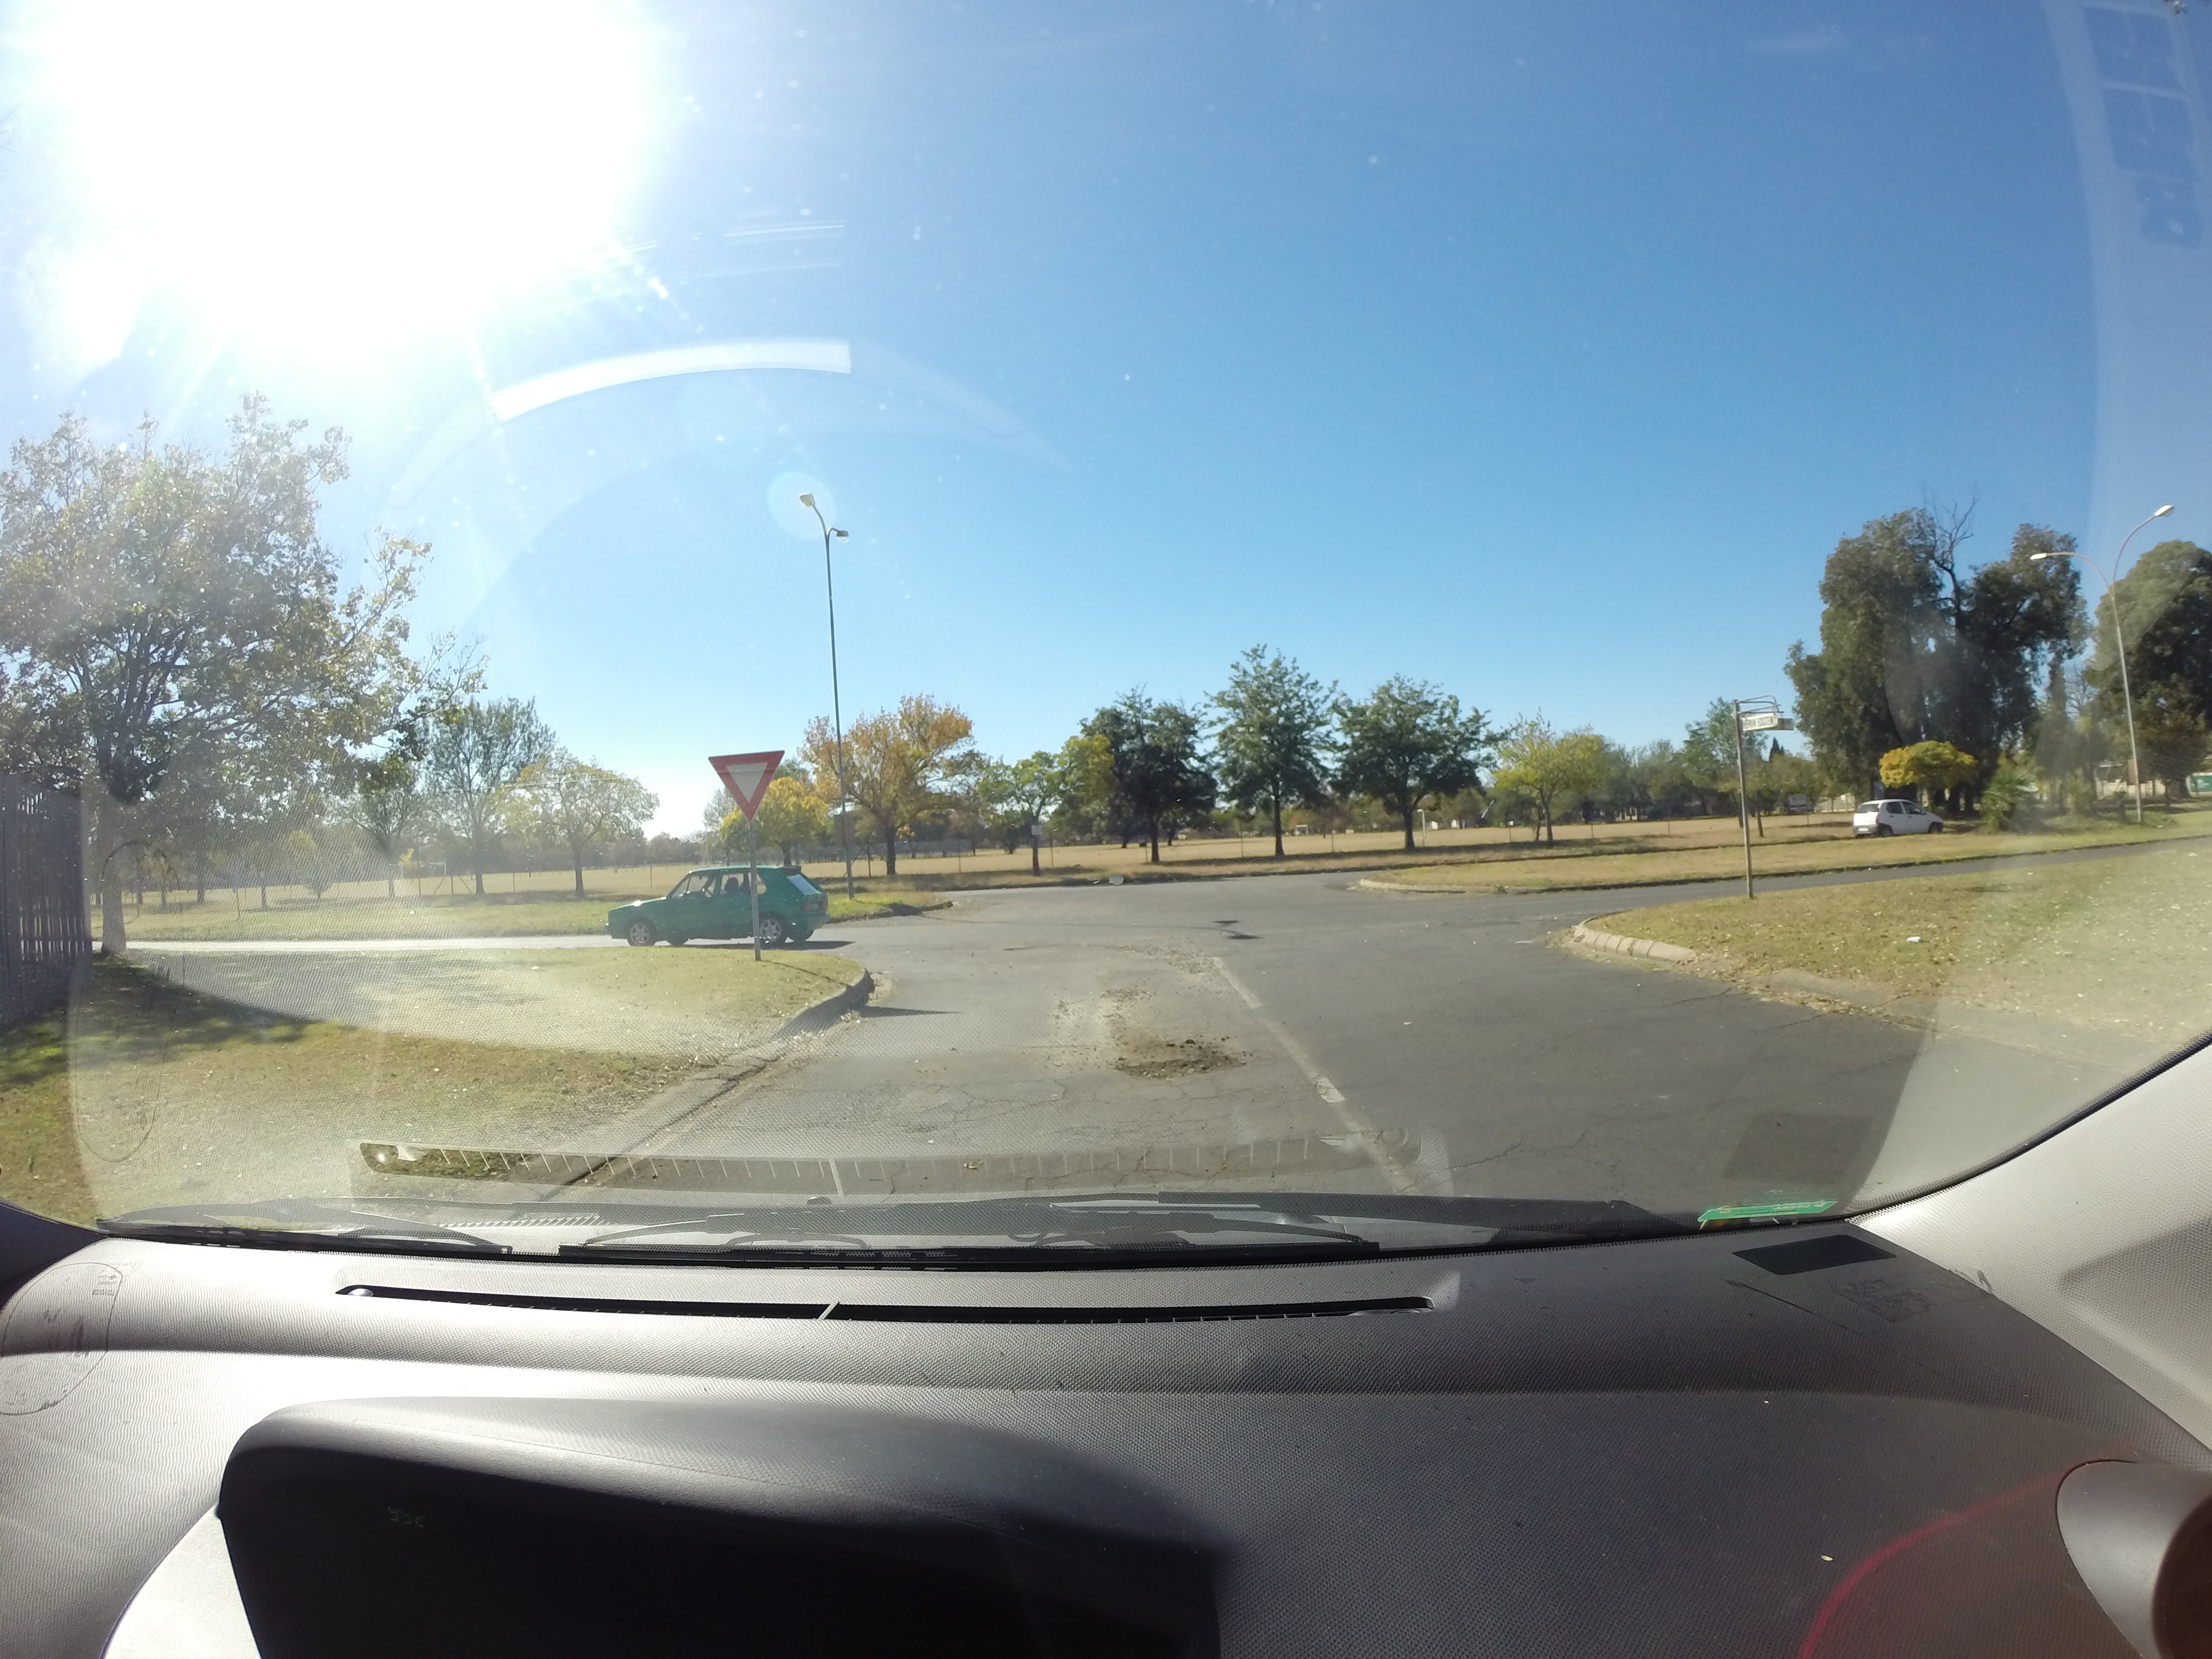pothole: (1040, 974, 1310, 1110)
